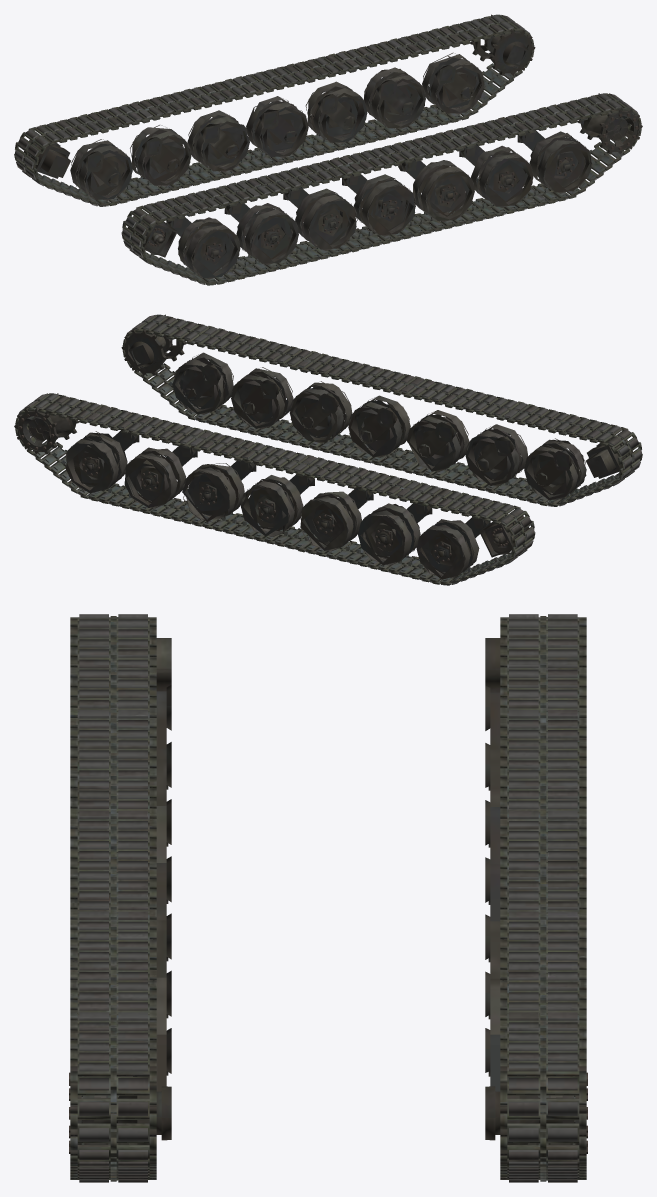
File: leopard2_tren.glb
3 views of the same model, one above another, from view 1: azimuth 30°, elevation 25°; view 2: azimuth 150°, elevation 25°; view 3: azimuth 270°, elevation 25° (orthographic). The views are drawn at different scales.
Parts seen in each view (by area): view 1: roadwL, roadwR, trackL, trackR, driveR, driveL; view 2: roadwR, roadwL, trackL, trackR, driveL, driveR; view 3: trackL, trackR, roadwL, roadwR, driveR, driveL.
Boxes of the visible parts, bbox=[...] form: roadwL: bbox=[166, 131, 591, 279]; roadwR: bbox=[70, 52, 484, 200]; trackL: bbox=[121, 93, 641, 285]; trackR: bbox=[14, 14, 534, 206]; driveR: bbox=[24, 14, 535, 178]; driveL: bbox=[128, 93, 642, 257]; roadwR: bbox=[65, 431, 490, 579]; roadwL: bbox=[172, 352, 586, 500]; trackL: bbox=[122, 314, 642, 506]; trackR: bbox=[15, 393, 535, 585]; driveL: bbox=[121, 314, 632, 478]; driveR: bbox=[14, 393, 528, 557]; trackL: bbox=[70, 614, 156, 1182]; trackR: bbox=[500, 614, 586, 1182]; roadwL: bbox=[84, 684, 171, 1144]; roadwR: bbox=[485, 685, 572, 1144]; driveR: bbox=[485, 638, 587, 1164]; driveL: bbox=[69, 638, 171, 1164].
Bounding box in the file's own units: 9.27 × 1.42 × 4.15.
8 materials, 6 textured.
